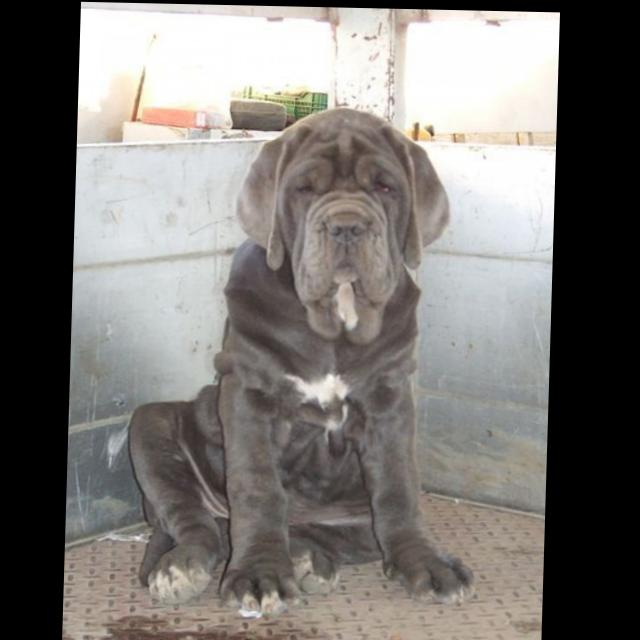mastino_napoletano: (126, 101, 492, 622)
